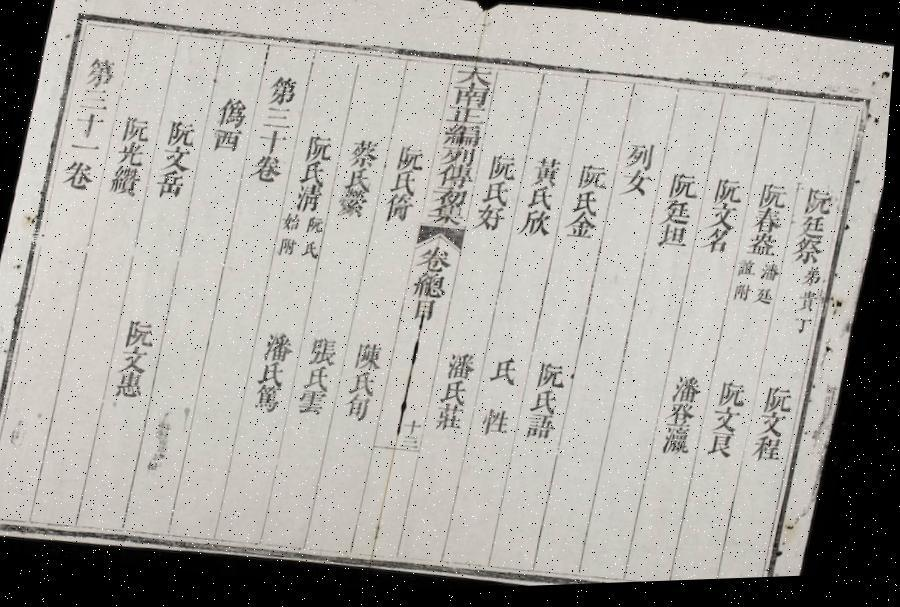c: (214, 94, 252, 132), (81, 53, 120, 90), (106, 163, 146, 199), (265, 328, 303, 365), (347, 137, 386, 173), (60, 157, 100, 192), (417, 246, 460, 278), (530, 156, 568, 192), (264, 74, 302, 110), (310, 334, 348, 369), (249, 152, 288, 186), (414, 272, 454, 305), (441, 123, 486, 152), (802, 189, 840, 223), (674, 376, 712, 410), (449, 85, 495, 113), (436, 404, 475, 437), (435, 165, 479, 194), (448, 350, 484, 385), (127, 316, 164, 350), (766, 387, 804, 420), (620, 171, 658, 204), (337, 190, 375, 223), (712, 179, 750, 212), (71, 109, 110, 141), (667, 174, 706, 206), (452, 65, 498, 92), (484, 407, 520, 441), (120, 112, 156, 146), (356, 341, 393, 374), (383, 194, 420, 227), (154, 169, 191, 202), (528, 414, 566, 446), (664, 430, 702, 462), (164, 118, 202, 150), (520, 211, 558, 243), (492, 357, 528, 390), (302, 133, 338, 166), (758, 184, 794, 217), (538, 362, 575, 394), (755, 438, 792, 470), (661, 202, 699, 233), (116, 370, 154, 401), (792, 241, 830, 272), (255, 384, 291, 416), (624, 144, 660, 176), (475, 205, 511, 237), (577, 165, 613, 197), (394, 144, 430, 176), (428, 204, 472, 230), (752, 210, 790, 240), (721, 382, 756, 414), (703, 230, 738, 262), (658, 226, 694, 257), (300, 388, 336, 419), (486, 155, 522, 186), (160, 144, 196, 175), (710, 434, 744, 466), (346, 394, 380, 426), (294, 184, 328, 216), (445, 106, 490, 130), (566, 215, 602, 245), (708, 206, 744, 236), (256, 128, 292, 158), (210, 126, 246, 156), (439, 147, 482, 172), (747, 236, 784, 265), (669, 405, 706, 434), (122, 345, 156, 376), (572, 192, 607, 222), (715, 410, 750, 440), (306, 365, 341, 395), (481, 181, 516, 211), (443, 380, 478, 410), (798, 218, 834, 247), (760, 415, 796, 444), (260, 360, 294, 390), (300, 160, 334, 190), (534, 390, 568, 420), (115, 140, 150, 169), (351, 371, 386, 400), (261, 104, 297, 132), (432, 188, 474, 212), (412, 300, 444, 331), (527, 188, 562, 216), (344, 168, 379, 196), (77, 85, 113, 112), (390, 171, 424, 199), (68, 136, 105, 157), (798, 293, 826, 320), (802, 269, 830, 294), (279, 236, 303, 260), (282, 212, 307, 235), (756, 289, 780, 312), (794, 320, 819, 342), (738, 262, 762, 284), (762, 266, 786, 288), (736, 285, 758, 308), (303, 239, 325, 262), (307, 216, 330, 237), (404, 435, 428, 454), (408, 418, 430, 438)
